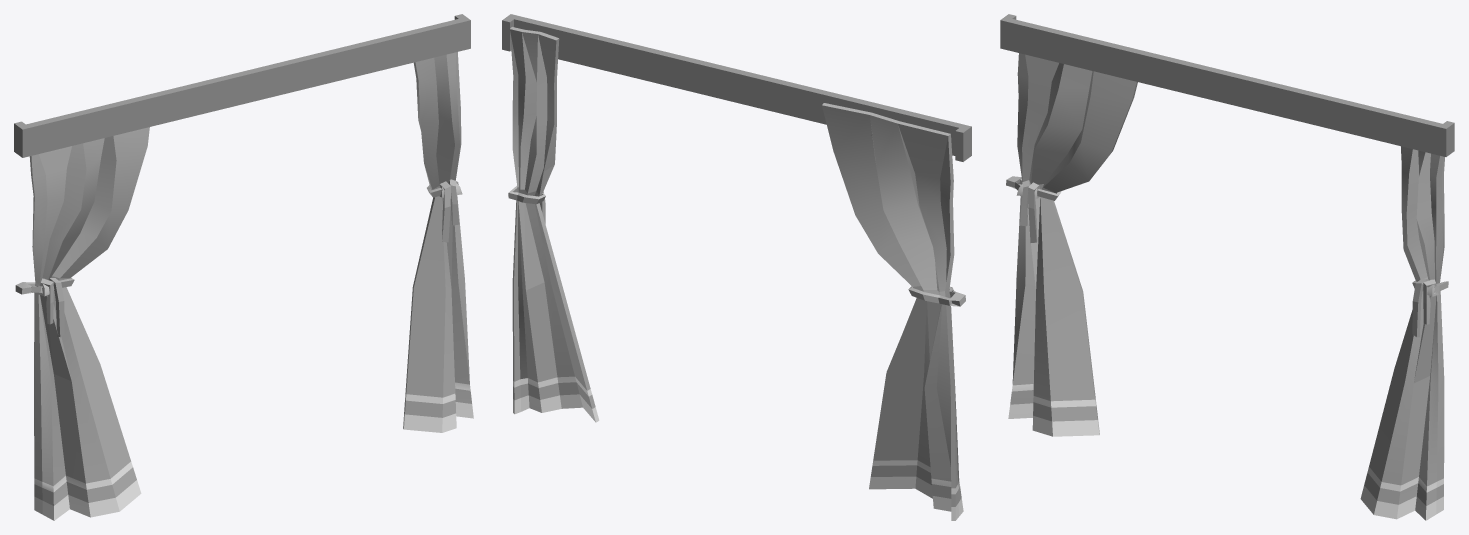
File: PT_Curtains_03.fbx
3 renders of one model, left to right at view 1: azimuth 30°, elevation 25°; view 2: azimuth 150°, elevation 25°; view 3: azimuth 330°, elevation 25°, orthographic. The views are drawn at different scales.
Parts seen in each view (by area): view 1: PT_Curtains_03; view 2: PT_Curtains_03; view 3: PT_Curtains_03.
Boxes of the visible parts, x1=… form: PT_Curtains_03: x1=14, y1=14, x2=473, y2=520; PT_Curtains_03: x1=502, y1=14, x2=971, y2=520; PT_Curtains_03: x1=1000, y1=14, x2=1454, y2=520.
Bounding box in the file's own units: 269 × 222 × 35.46.
1 material, 1 textured.
